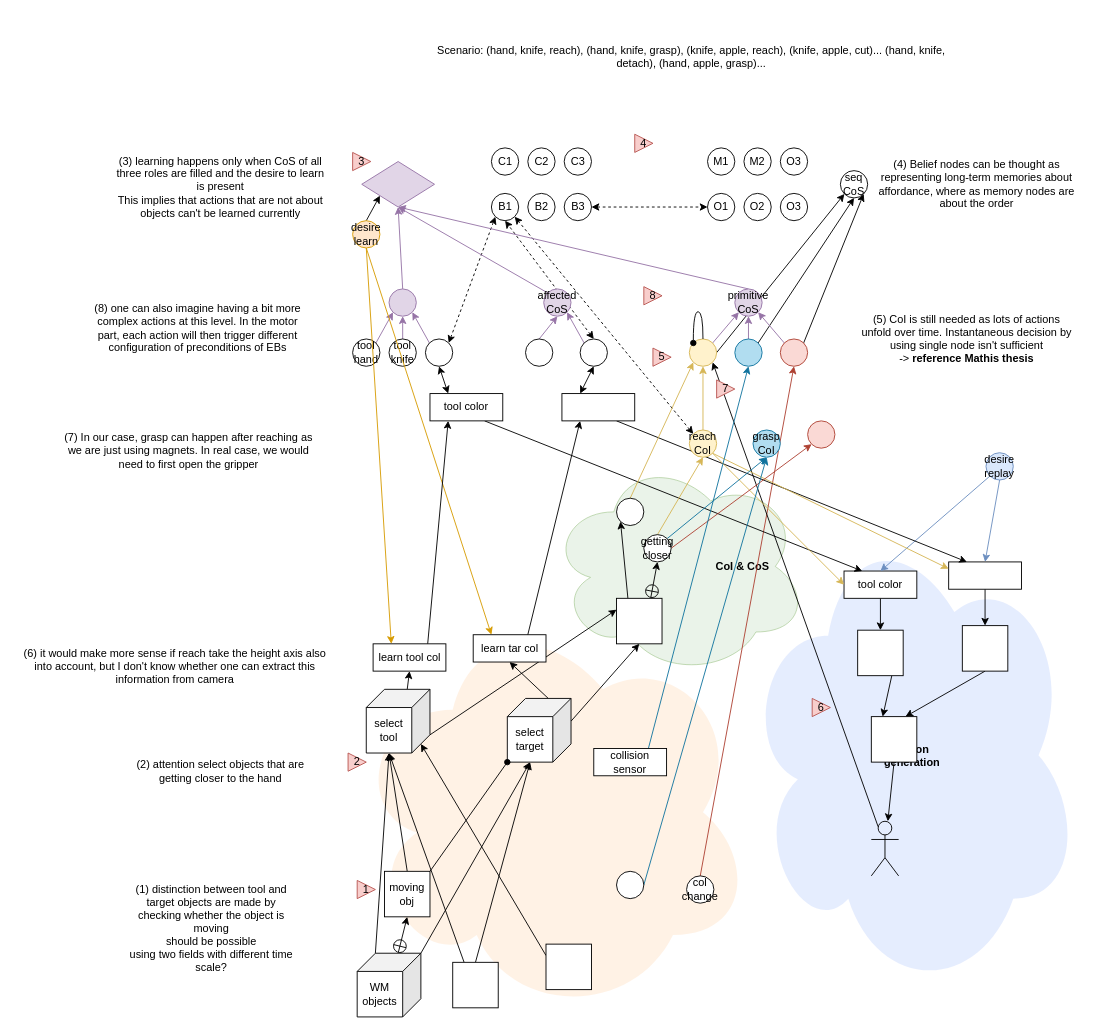
The diagram is 1101 pixels wide and 1033 high, and some of its shapes have lost their labels. The box of each missing label's shape, as (x1, y1, x2, y2) in pixels:
aff color: (948, 561, 1021, 589)
aff pos: (961, 625, 1008, 671)
Arm movement: (870, 820, 899, 876)
centered aff: (870, 716, 917, 762)
cut CoI: (807, 420, 835, 448)
cut CoS: (779, 338, 808, 366)
EEF proprio: (545, 943, 592, 990)
grasp CoS: (734, 338, 762, 366)
hand: (452, 961, 498, 1008)
magnet active: (616, 870, 644, 899)
match: (616, 497, 644, 526)
Perception & Visual search: (352, 607, 753, 1016)
reach CoS: (688, 338, 717, 366)
reward: (361, 161, 435, 207)
tar apple: (579, 338, 607, 366)
tar knife: (525, 338, 553, 366)
target color: (561, 393, 635, 421)
tool apple: (425, 338, 453, 366)
tool CoS: (388, 288, 416, 316)
tool pos: (857, 629, 903, 676)
tool-centered target: (616, 597, 662, 644)
